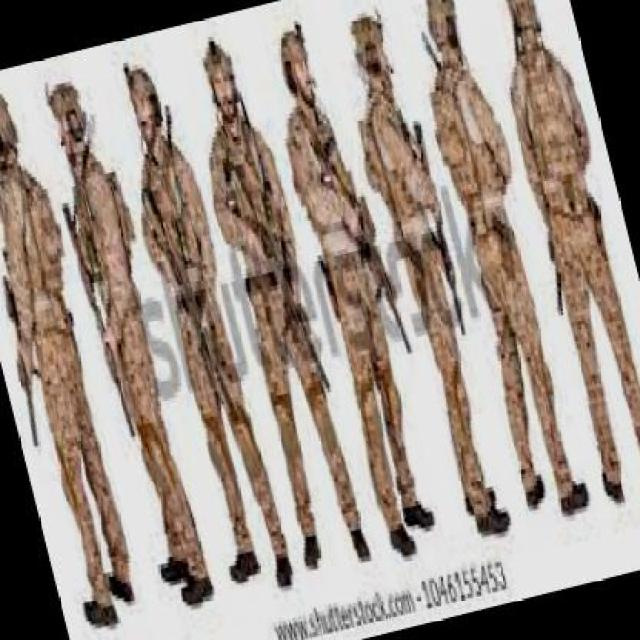MIL_Pax: (176, 30, 373, 581), (103, 56, 299, 606), (257, 21, 448, 570), (31, 75, 218, 619), (330, 8, 516, 547), (402, 0, 592, 526), (0, 81, 157, 637), (476, 0, 638, 512)
